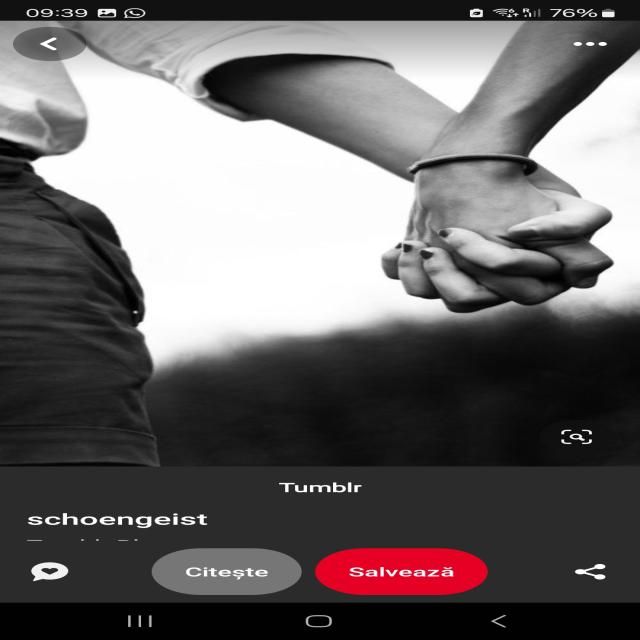hands: (338, 92, 616, 356)
